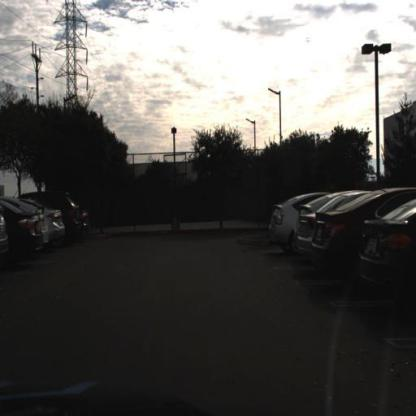car: (309, 183, 411, 275), (358, 199, 416, 304), (268, 191, 325, 255), (296, 196, 349, 264), (1, 196, 44, 267), (296, 205, 328, 273), (32, 202, 68, 244), (44, 203, 67, 251)
